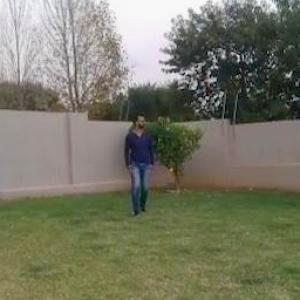follow: (126, 112, 154, 222)
